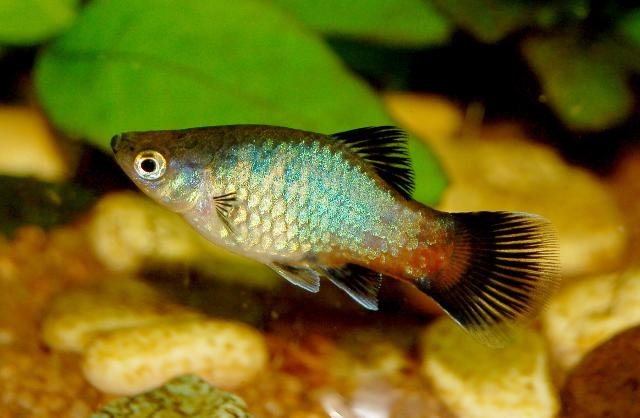Mulut: (86, 98, 142, 186)
Sirip Anal: (321, 254, 389, 320)
Sirip Dada: (206, 175, 276, 254)
Sirip Ekor: (426, 204, 568, 348)
Sirip Perut: (268, 256, 322, 304)
Sirip Punggung: (329, 109, 427, 205)
